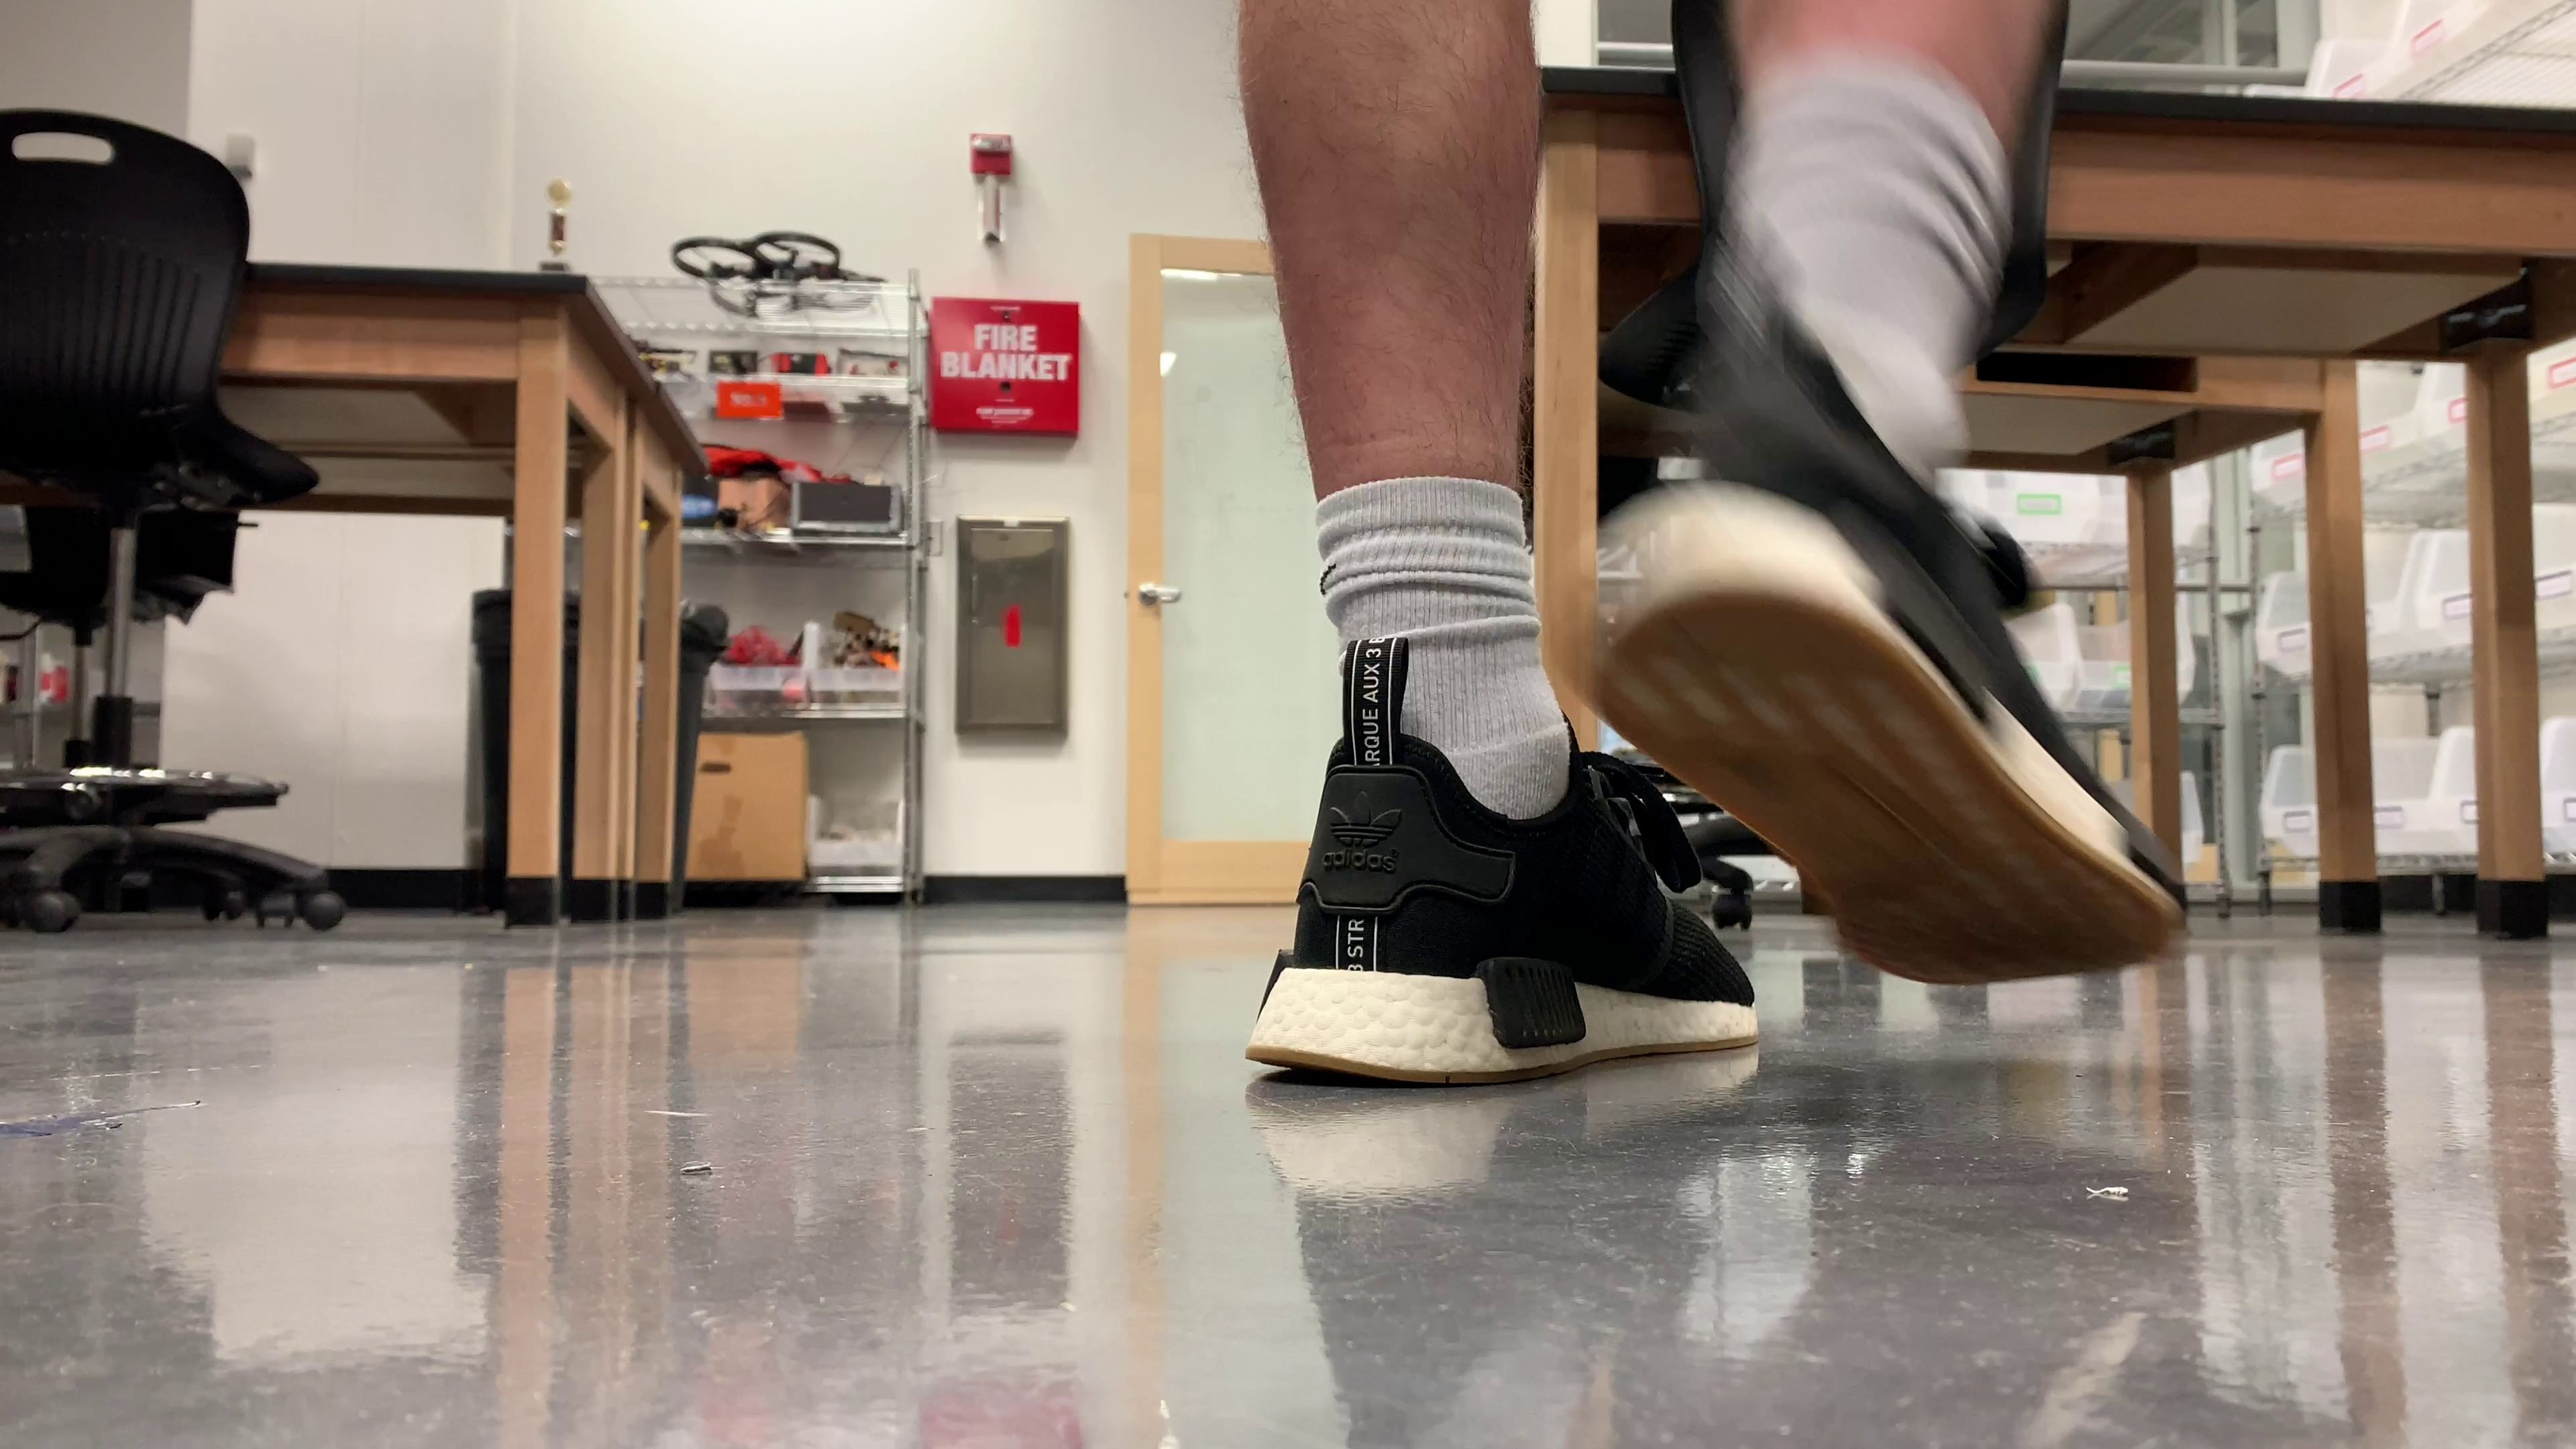shoe: (1247, 736, 1757, 1083)
